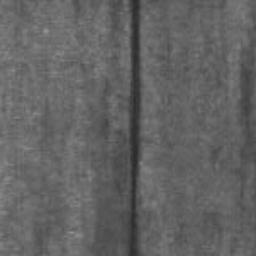Scratches: (128, 0, 143, 256)
